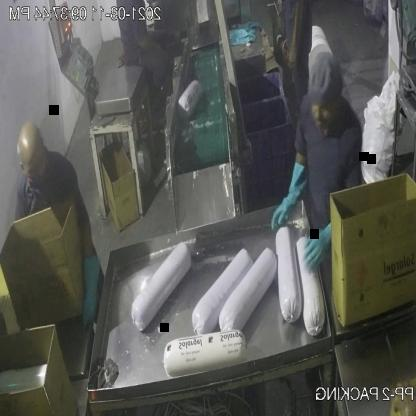glove: (267, 158, 311, 246), (296, 206, 343, 284)
no_glove: (284, 0, 308, 65)
